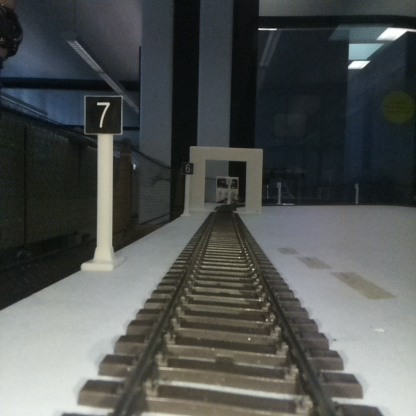black-info-6: (182, 163, 193, 217)
black-info-7: (84, 96, 122, 269)
